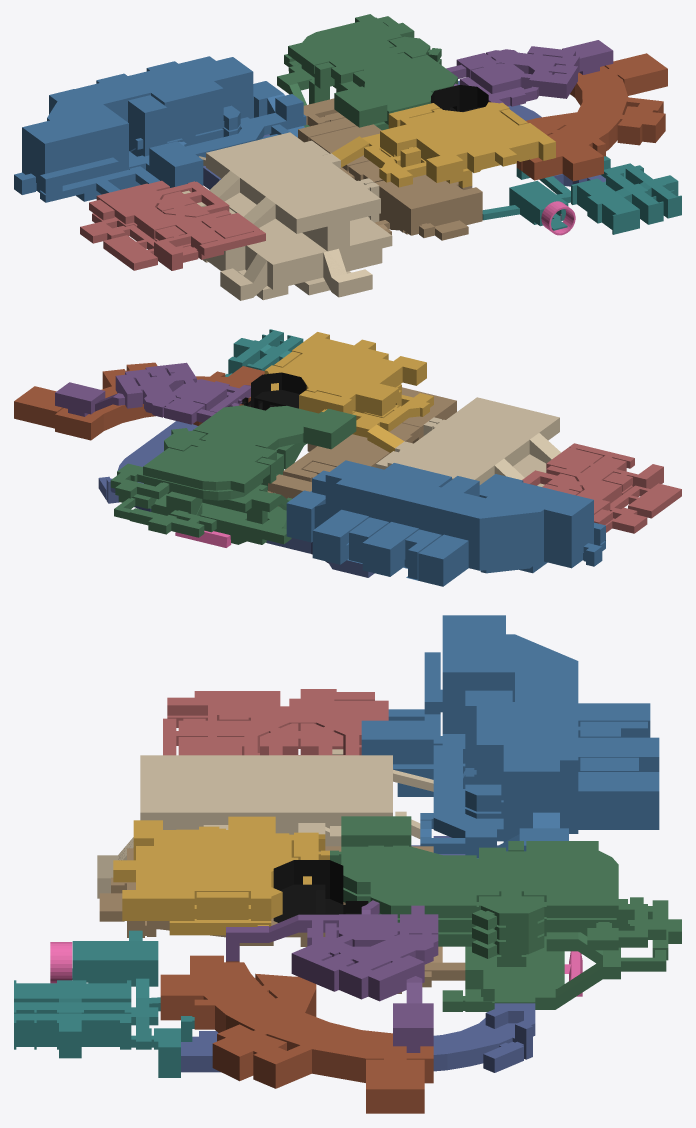
File: stella-3d-reference.glb
3 renders of one model, top to bottom at view 1: azimuth 30°, elevation 25°; view 2: azimuth 150°, elevation 25°; view 3: azimuth 270°, elevation 25°, orthographic. The views are drawn at different scales.
Parts seen in each view (by area): view 1: assembly, loading bay, lobby, atrium, medical, archives, sandbox, seed vault, business center, communications, metro, seed vault extract; view 2: assembly, lobby, atrium, loading bay, medical, business center, archives, sandbox, metro, seed vault, communications, lobby metro extract; view 3: assembly, lobby, archives, loading bay, atrium, seed vault, business center, medical, metro, communications, sandbox, seed vault extract.
Part boxes in pixels (x1,y1,x2,y2): assembly: (14,56,306,202); loading bay: (182,132,392,300); lobby: (277,14,457,130); atrium: (331,102,555,187); medical: (80,180,265,270); archives: (516,53,667,181); sandbox: (298,98,482,240); seed vault: (482,156,681,234); business center: (446,40,613,106); communications: (431,85,488,111); metro: (203,80,605,189); seed vault extract: (541,201,575,235); assembly: (286,460,605,586); lobby: (110,405,356,544); atrium: (264,332,433,452); loading bay: (375,397,560,486); medical: (522,443,681,533); business center: (55,362,250,424); archives: (14,362,264,440); sandbox: (267,387,456,506); metro: (98,421,374,577); seed vault: (225,329,303,376); communications: (241,372,306,410); lobby metro extract: (175,530,231,547); assembly: (361,615,659,858); lobby: (330,816,681,1011); archives: (160,955,433,1113); loading bay: (97,749,433,898); atrium: (113,816,329,935); seed vault: (14,930,194,1077); business center: (226,900,438,1052); medical: (163,689,388,755); metro: (181,836,535,1072); communications: (273,860,368,922); sandbox: (99,846,465,993); seed vault extract: (50,942,72,983).
Size of the model in its own units: 109 by 19.25 by 74.
